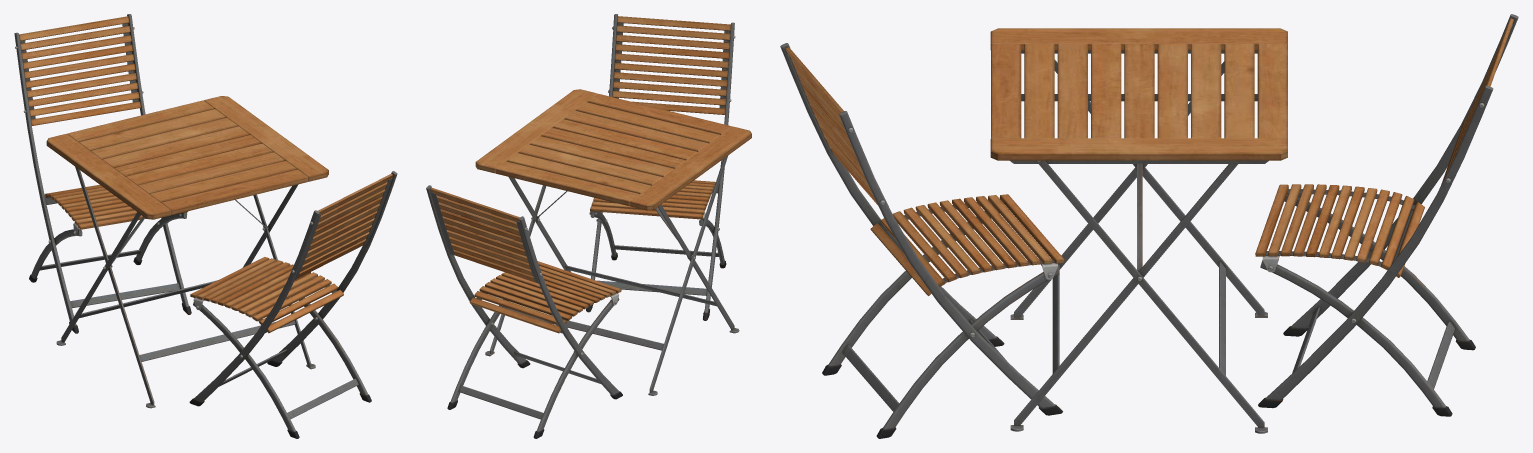
Rendered from outdoor_table_chair_set_01.l.c2285bd8.glb.
The picture shows the model from 3 angles, left to right: view 1: azimuth 30°, elevation 25°; view 2: azimuth 150°, elevation 25°; view 3: azimuth 270°, elevation 25°; orthographic projection. The views are drawn at different scales.
Parts seen in each view (by area): view 1: outdoor_table_chair_set_01_table, outdoor_table_chair_set_01_chair_02, outdoor_table_chair_set_01_chair_01; view 2: outdoor_table_chair_set_01_table, outdoor_table_chair_set_01_chair_02, outdoor_table_chair_set_01_chair_01; view 3: outdoor_table_chair_set_01_table, outdoor_table_chair_set_01_chair_01, outdoor_table_chair_set_01_chair_02.
Part boxes in pixels (left/top/right/bottom): outdoor_table_chair_set_01_table: left=46, top=96, right=328, bottom=408; outdoor_table_chair_set_01_chair_02: left=14, top=14, right=191, bottom=333; outdoor_table_chair_set_01_chair_01: left=189, top=171, right=397, bottom=438; outdoor_table_chair_set_01_table: left=475, top=89, right=751, bottom=395; outdoor_table_chair_set_01_chair_02: left=426, top=185, right=622, bottom=438; outdoor_table_chair_set_01_chair_01: left=586, top=14, right=735, bottom=320; outdoor_table_chair_set_01_table: left=990, top=28, right=1287, bottom=433; outdoor_table_chair_set_01_chair_01: left=780, top=43, right=1064, bottom=438; outdoor_table_chair_set_01_chair_02: left=1255, top=14, right=1518, bottom=416.
Size of the model in its own units: 0.7417 by 0.8586 by 1.72.
Materials: 2 (2 with a texture image).
